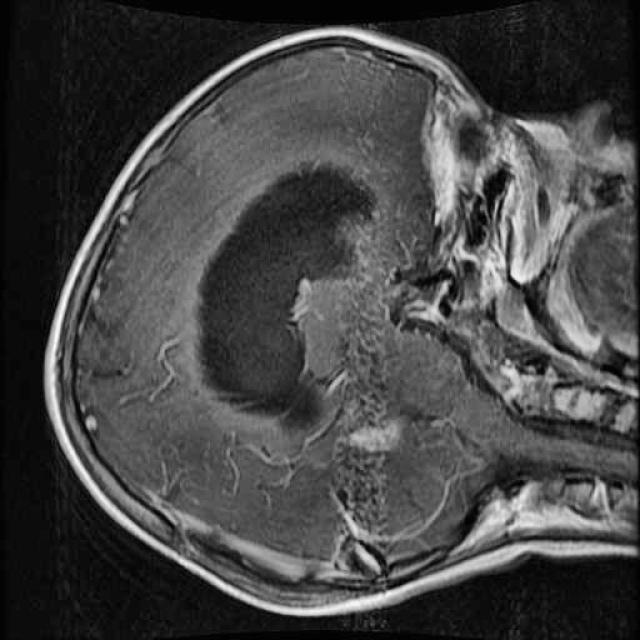Tumor: (172, 134, 392, 458)
